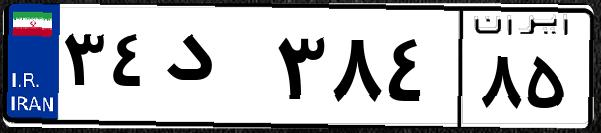3: (270, 28, 330, 110), (57, 26, 110, 100)
4: (385, 28, 445, 110), (110, 28, 158, 98)
5: (525, 38, 570, 115)
8: (330, 28, 385, 110), (475, 38, 525, 113)
د: (158, 20, 270, 120)
